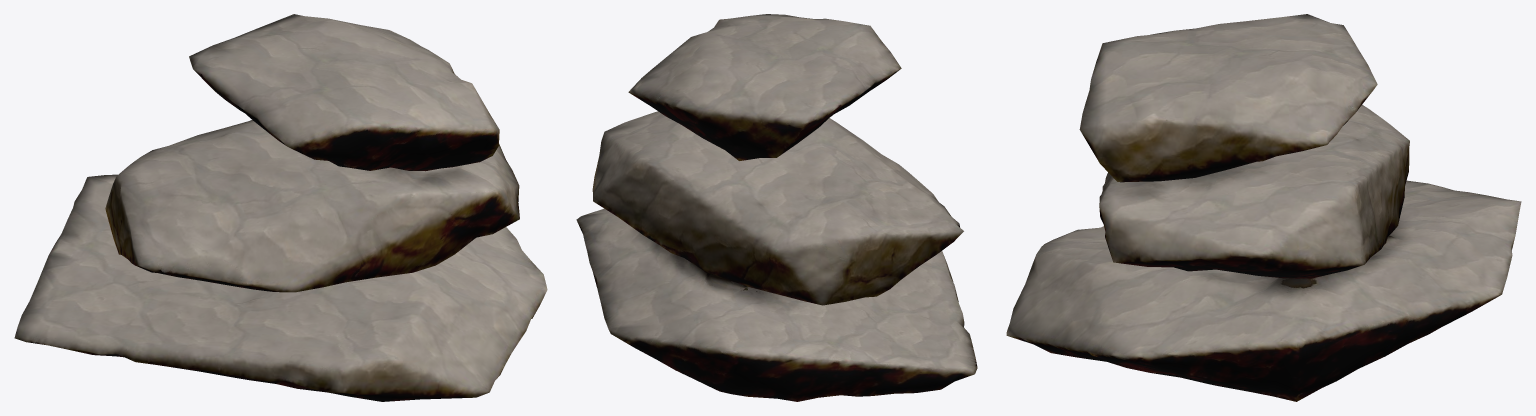
Rendered from boulder_slabs.glb.
The picture shows the model from 3 angles, left to right: view 1: azimuth 30°, elevation 25°; view 2: azimuth 150°, elevation 25°; view 3: azimuth 270°, elevation 25°; orthographic projection. The views are drawn at different scales.
Parts seen in each view (by area): view 1: rock; view 2: rock; view 3: rock.
Boxes of the visible parts, x1=… form: rock: x1=14, y1=14, x2=547, y2=401; rock: x1=576, y1=14, x2=977, y2=401; rock: x1=1006, y1=14, x2=1521, y2=401.
Size of the model in its own units: 1.34 by 0.8178 by 1.32.
Materials: 1 (1 with a texture image).
